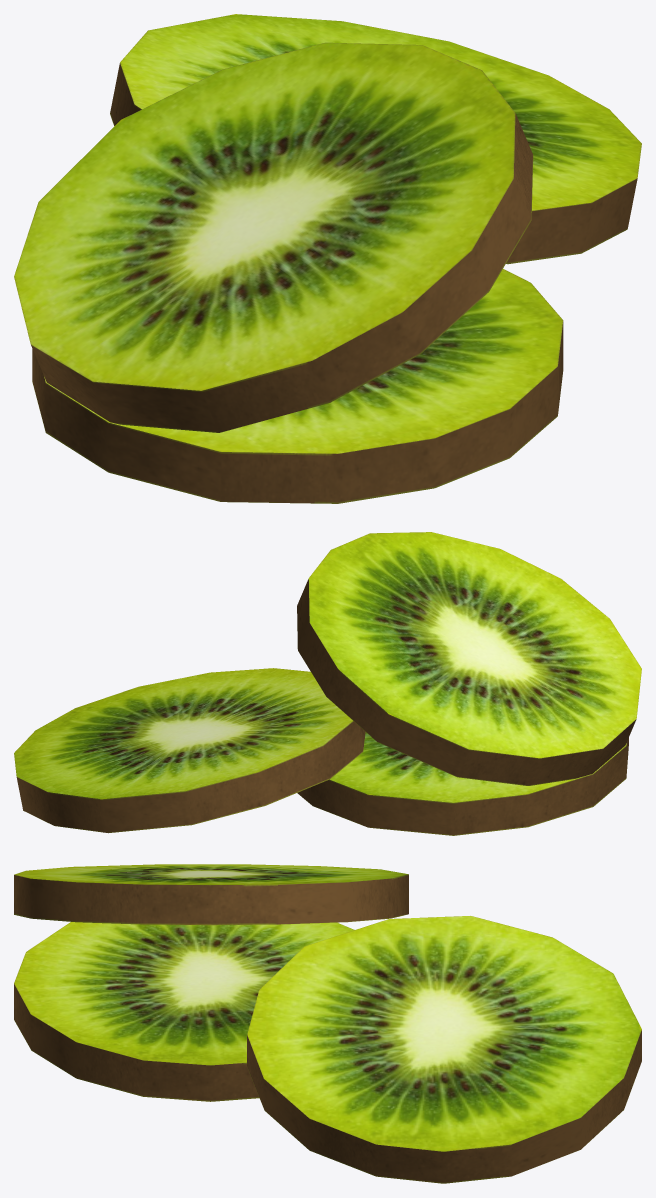
File: kiwi.glb
3 renders of one model, top to bottom at view 1: azimuth 30°, elevation 25°; view 2: azimuth 150°, elevation 25°; view 3: azimuth 270°, elevation 25°, orthographic. The views are drawn at different scales.
Visible parts, largest first — view 1: pCylinder4; view 2: pCylinder4; view 3: pCylinder4.
Part boxes in pixels (<box>): pCylinder4: <box>14,14,641,503</box>; pCylinder4: <box>14,532,641,835</box>; pCylinder4: <box>14,864,641,1183</box>.
Size of the model in its own units: 0.0834 by 0.0305 by 0.0867.
Materials: 1 (1 with a texture image).
